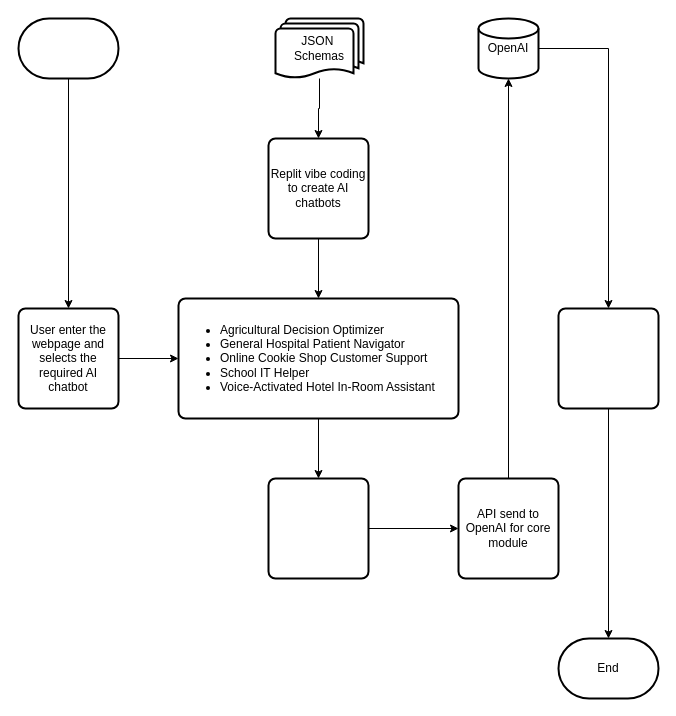
Some shapes in this 676 by 716 pixel diagram are drawn without their labels. The centre of each missing label's shape, as x and y in pixels:
"Appropriate reply will be sent to the user" belongs at point 608,358.
"Selected AI chatbot will be used as interface" belongs at point 318,528.
"Start" belongs at point 68,48.
